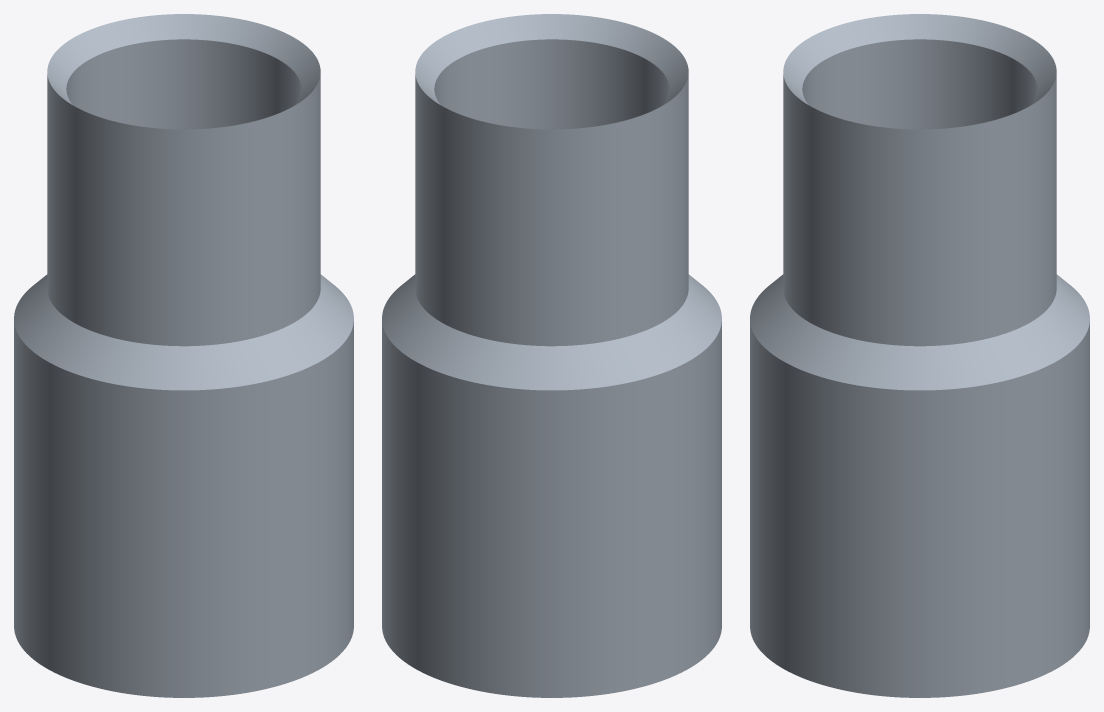
Rendered from vacuum-adapter.glb.
3 views of the same model, side by side, from view 1: azimuth 30°, elevation 25°; view 2: azimuth 150°, elevation 25°; view 3: azimuth 270°, elevation 25° (orthographic).
Visible parts, largest first — view 1: Body1, Body2; view 2: Body1, Body2; view 3: Body1, Body2.
Part boxes in pixels (x1=…): Body1: x1=14, y1=274, x2=353, y2=697; Body2: x1=47, y1=14, x2=320, y2=346; Body1: x1=382, y1=274, x2=721, y2=697; Body2: x1=415, y1=14, x2=688, y2=346; Body1: x1=750, y1=274, x2=1089, y2=697; Body2: x1=783, y1=14, x2=1056, y2=346.
Size of the model in its own units: 0.0356 by 0.064 by 0.0356.
